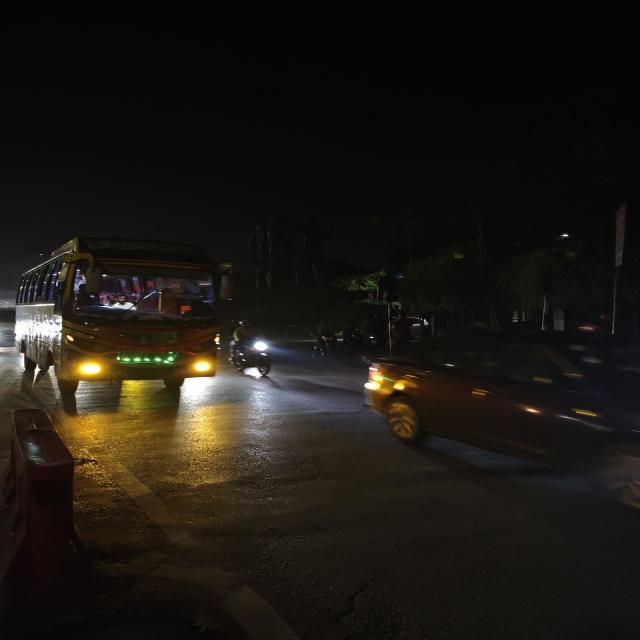bus: (14, 230, 234, 386), (0, 306, 16, 352)
motorcycle: (227, 318, 282, 382)
pedestrian: (388, 313, 416, 351)
